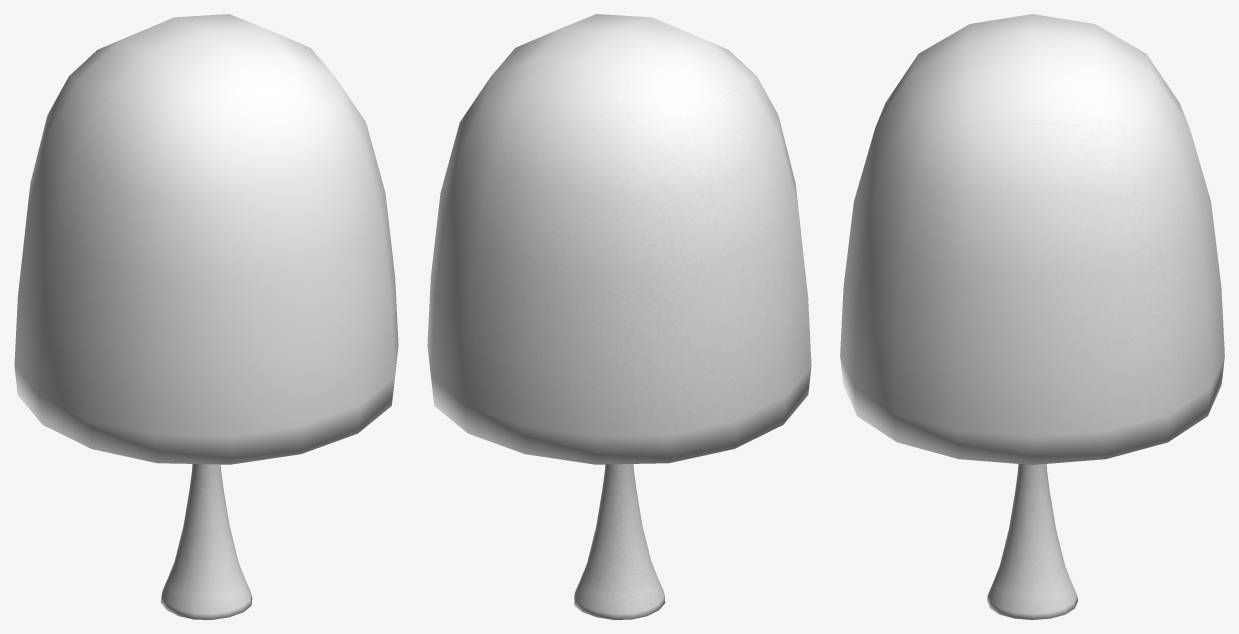
Rendered from tree_gumdrop_00.obj.
The picture shows the model from 3 angles, left to right: view 1: azimuth 30°, elevation 25°; view 2: azimuth 150°, elevation 25°; view 3: azimuth 270°, elevation 25°; orthographic projection.
Size of the model in its own units: 1.69 by 2.77 by 1.69.
